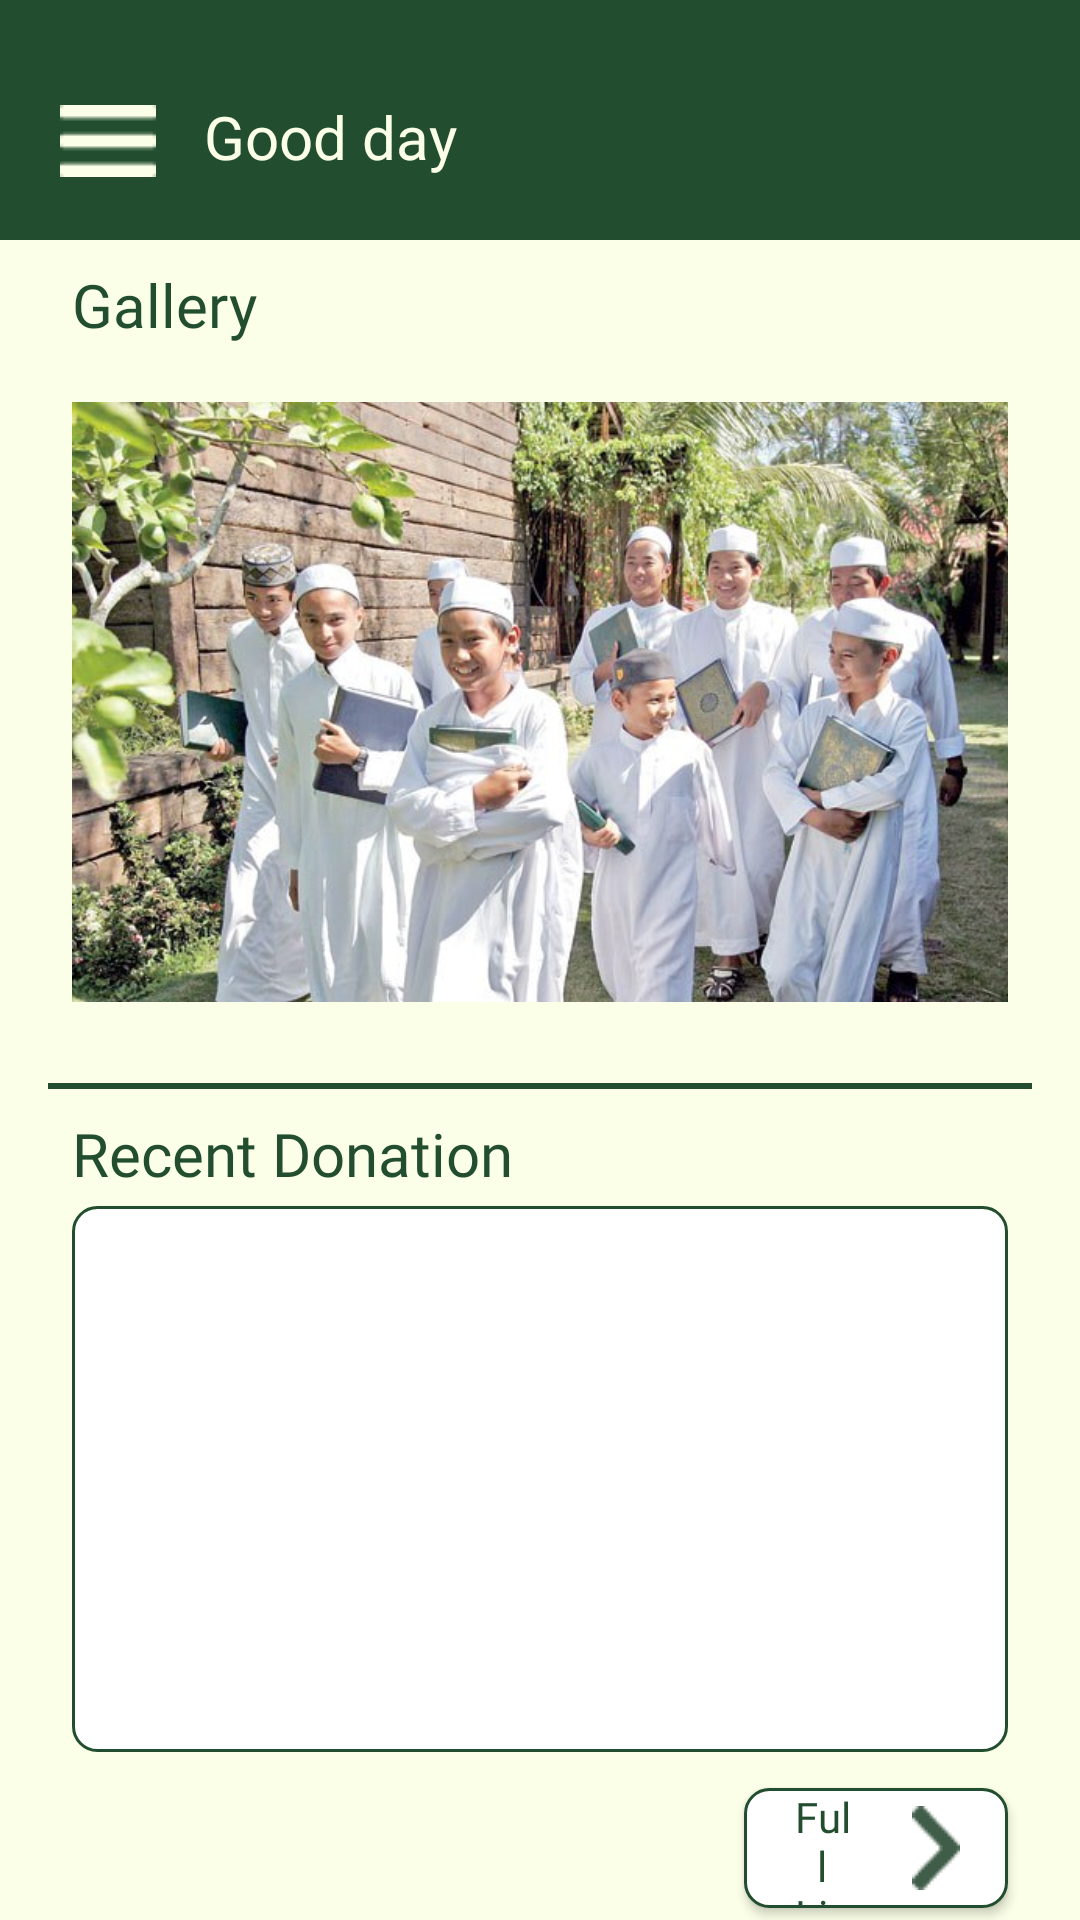

Icon click points for this 1080x1920 phone screenshot, format [x,y]:
hamburger menu: [108,141]
